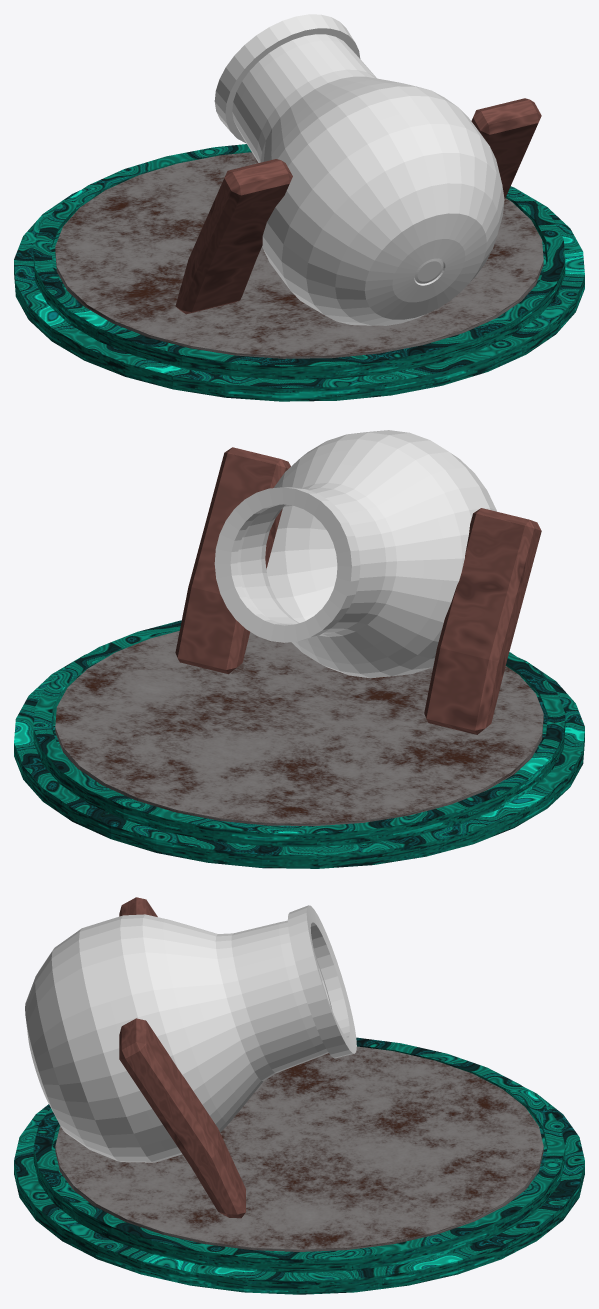
The model's file is CannonTower_icy.fbx.
3 renders of one model, top to bottom at view 1: azimuth 30°, elevation 25°; view 2: azimuth 150°, elevation 25°; view 3: azimuth 270°, elevation 25°, orthographic.
Visible parts, largest first — view 1: Cannon_head, Da_moving_part, Base, Support; view 2: Da_moving_part, Cannon_head, Base, Support; view 3: Da_moving_part, Cannon_head, Base, Support.
Boxes of the visible parts, x1,y1,x2,y2 form: Cannon_head: [214, 14, 504, 325]; Da_moving_part: [55, 152, 543, 358]; Base: [14, 144, 584, 401]; Support: [175, 98, 541, 314]; Da_moving_part: [55, 631, 543, 826]; Cannon_head: [214, 430, 496, 678]; Base: [14, 620, 584, 868]; Support: [175, 447, 541, 734]; Da_moving_part: [55, 1046, 543, 1251]; Cannon_head: [25, 905, 356, 1162]; Base: [14, 1037, 584, 1294]; Support: [119, 897, 245, 1218].
Size of the model in its own units: 1130 by 570 by 1130.
